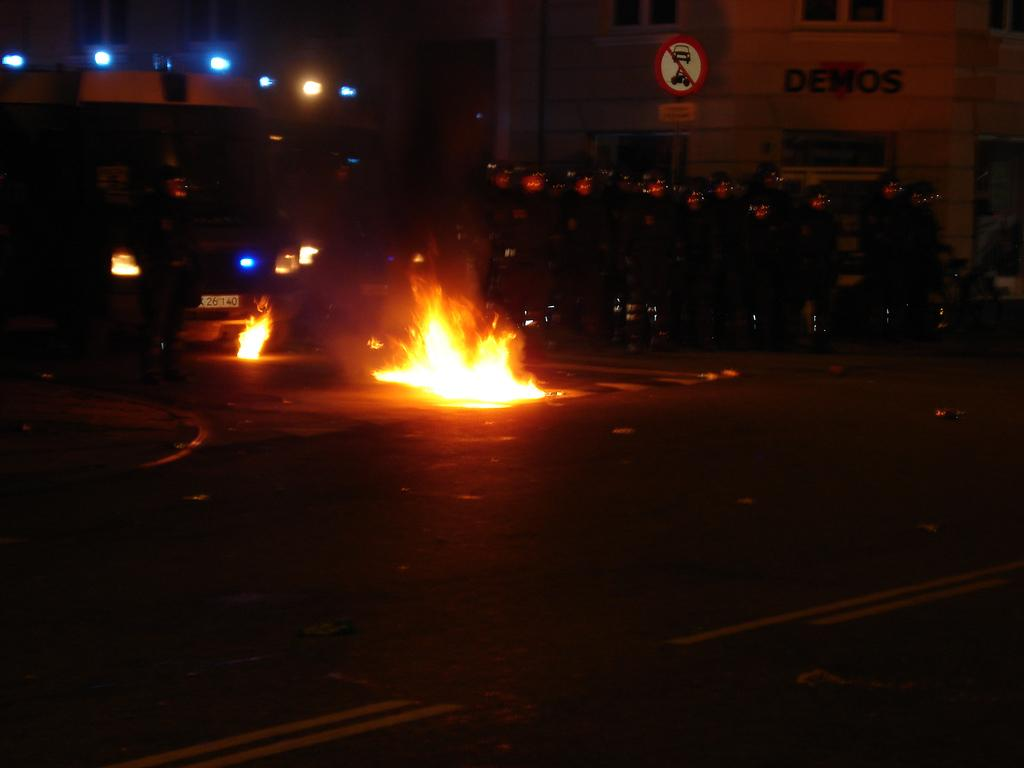fire: (410, 322, 522, 398)
